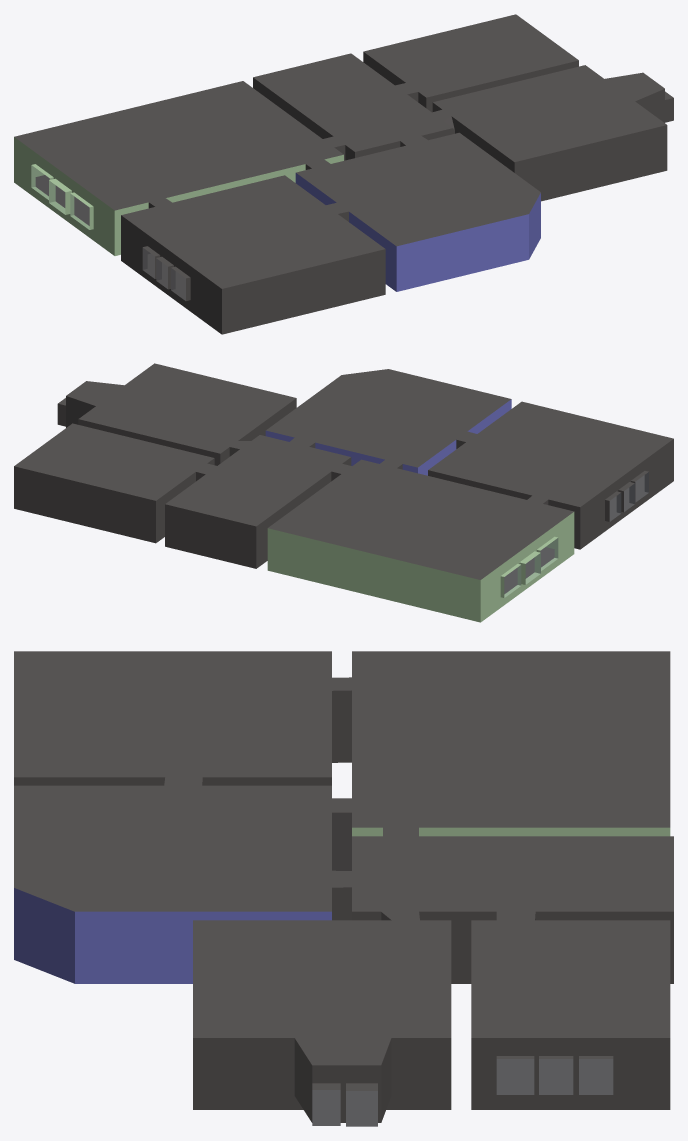
The model's file is Rorstrasndsgatan.dae.
3 views of the same model, one above another, from view 1: azimuth 30°, elevation 25°; view 2: azimuth 150°, elevation 25°; view 3: azimuth 270°, elevation 25° (orthographic). The views are drawn at different scales.
Parts seen in each view (by area): view 1: Plane; view 2: Plane; view 3: Plane.
Boxes of the visible parts, x1=… form: Plane: x1=14, y1=14, x2=673, y2=334; Plane: x1=14, y1=363, x2=673, y2=622; Plane: x1=14, y1=651, x2=673, y2=1126.
Size of the model in its own units: 50.77 by 33.19 by 4.
